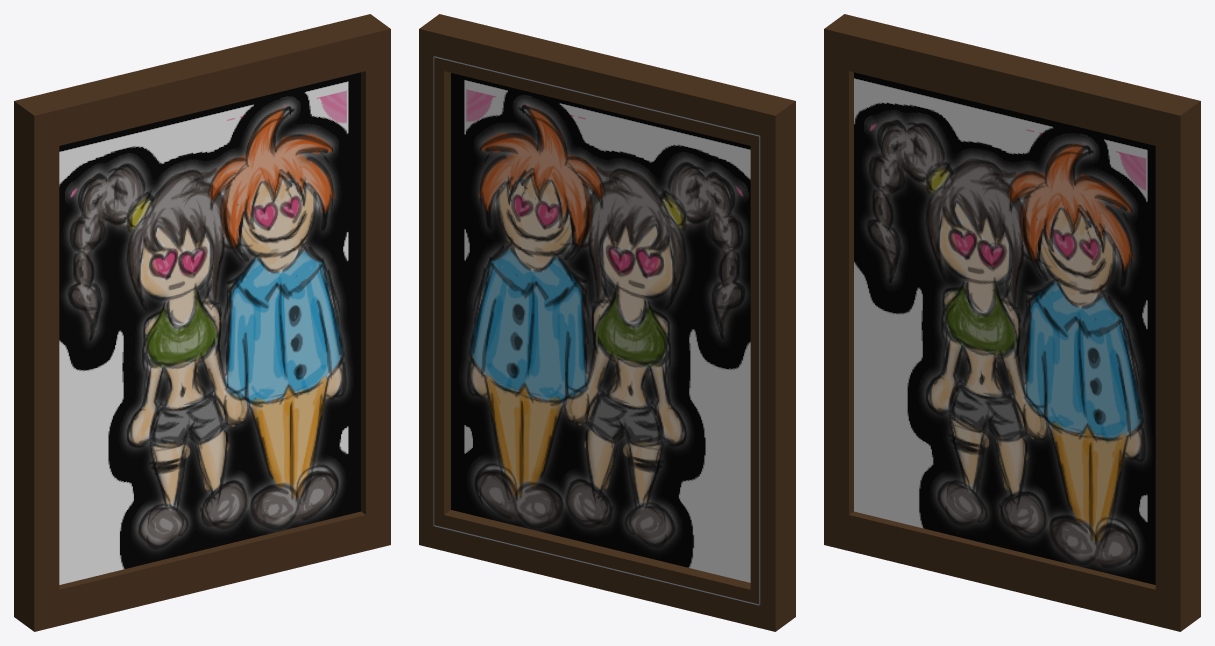
The model's file is Bilderrahmen_2.fbx.
The picture shows the model from 3 angles, left to right: view 1: azimuth 30°, elevation 25°; view 2: azimuth 150°, elevation 25°; view 3: azimuth 330°, elevation 25°; orthographic projection.
Parts seen in each view (by area): view 1: Würfel; view 2: Würfel; view 3: Würfel.
Part boxes in pixels (<box>): Würfel: <box>14,14,390,631</box>; Würfel: <box>419,14,795,631</box>; Würfel: <box>824,14,1200,631</box>.
Bounding box in the file's own units: 70.71 × 97.85 × 7.41.
